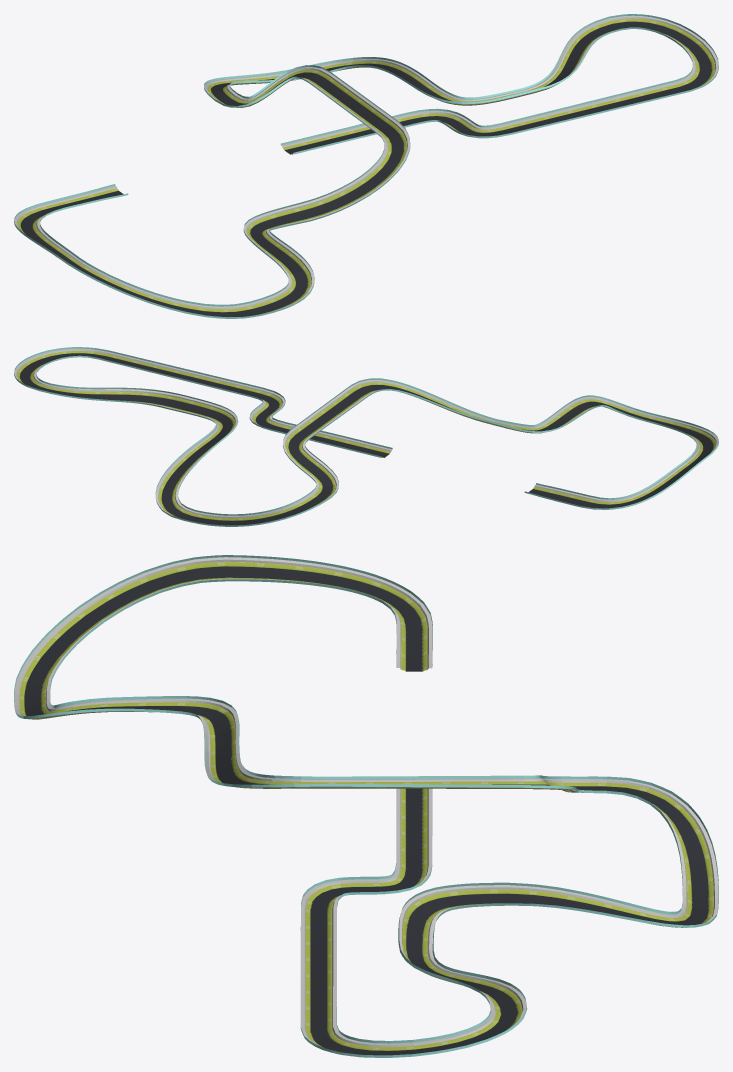
Rendered from GEO-Track_01_Track_v002.fbx.
3 views of the same model, one above another, from view 1: azimuth 30°, elevation 25°; view 2: azimuth 150°, elevation 25°; view 3: azimuth 270°, elevation 25° (orthographic). The views are drawn at different scales.
Parts seen in each view (by area): view 1: GEO-Track_01_Segment_v002_B; view 2: GEO-Track_01_Segment_v002_B; view 3: GEO-Track_01_Segment_v002_B.
Part boxes in pixels (bbox=[...]): GEO-Track_01_Segment_v002_B: bbox=[14, 14, 718, 318]; GEO-Track_01_Segment_v002_B: bbox=[14, 347, 718, 526]; GEO-Track_01_Segment_v002_B: bbox=[14, 555, 718, 1057].
Bounding box in the file's own units: 121096 × 10683 × 73915.
